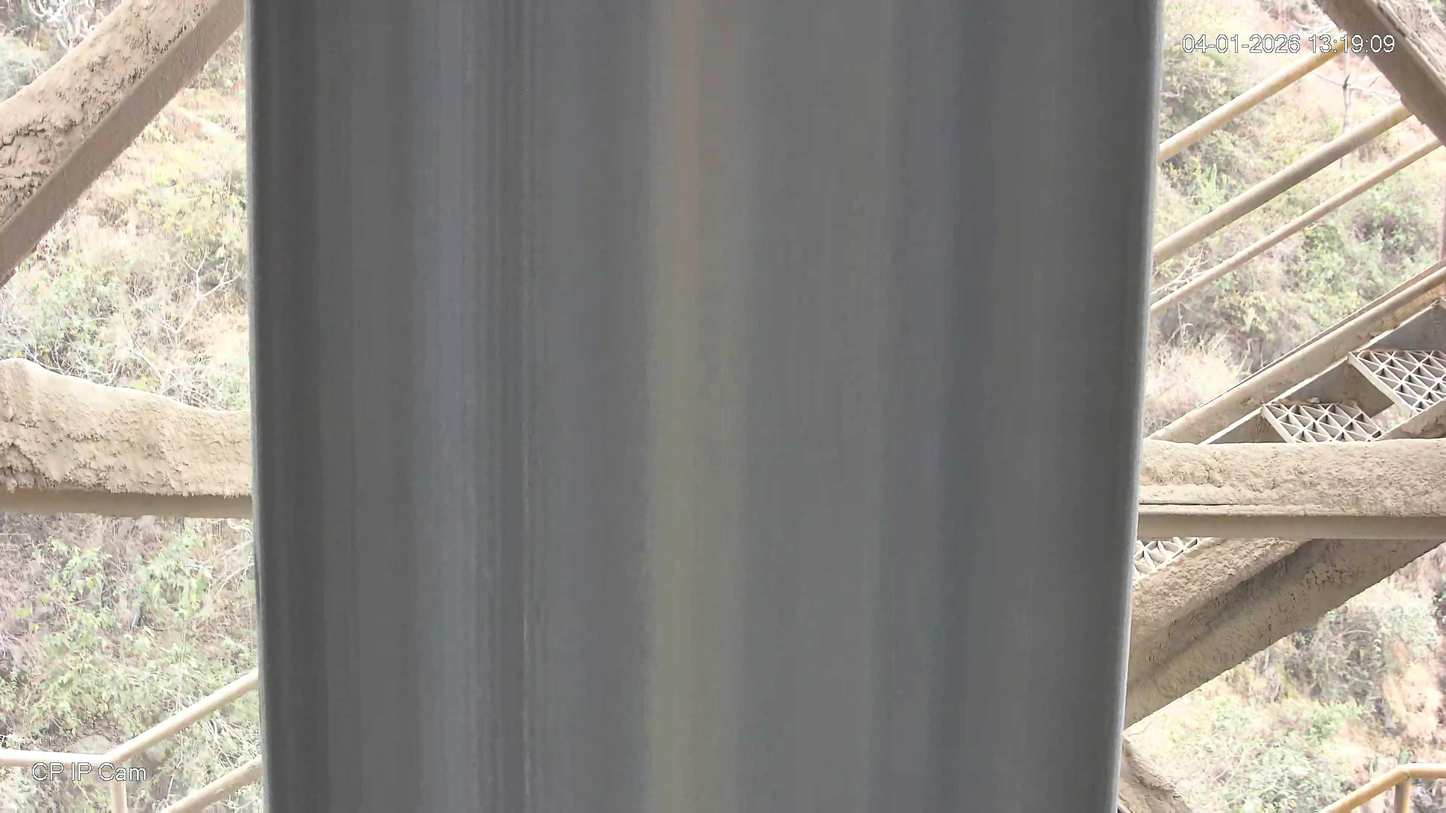belt_roi: (247, 1, 1168, 813)
